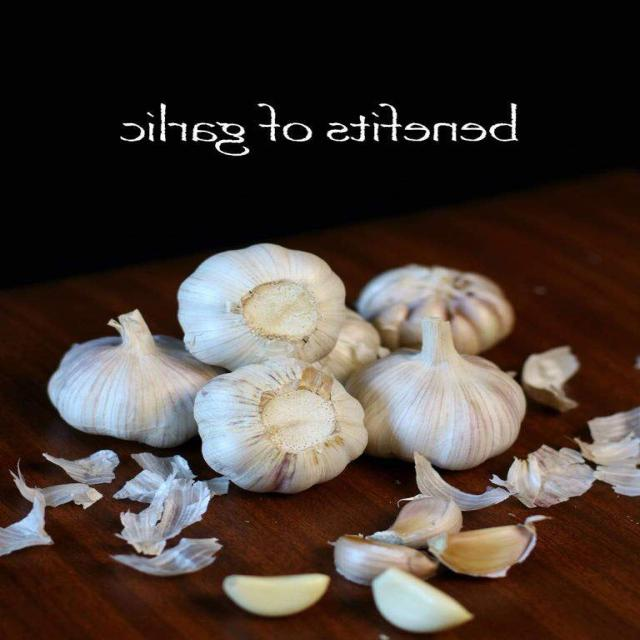Garlic: (324, 314, 527, 468), (38, 301, 227, 446), (179, 231, 360, 379), (191, 351, 364, 498), (348, 259, 526, 346)
